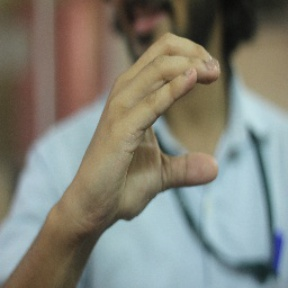C: (104, 33, 233, 200)
